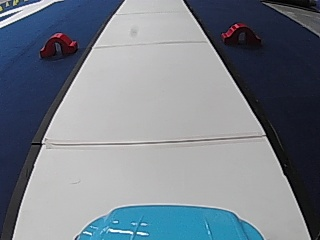bridge: (218, 19, 263, 47), (38, 29, 77, 58)
